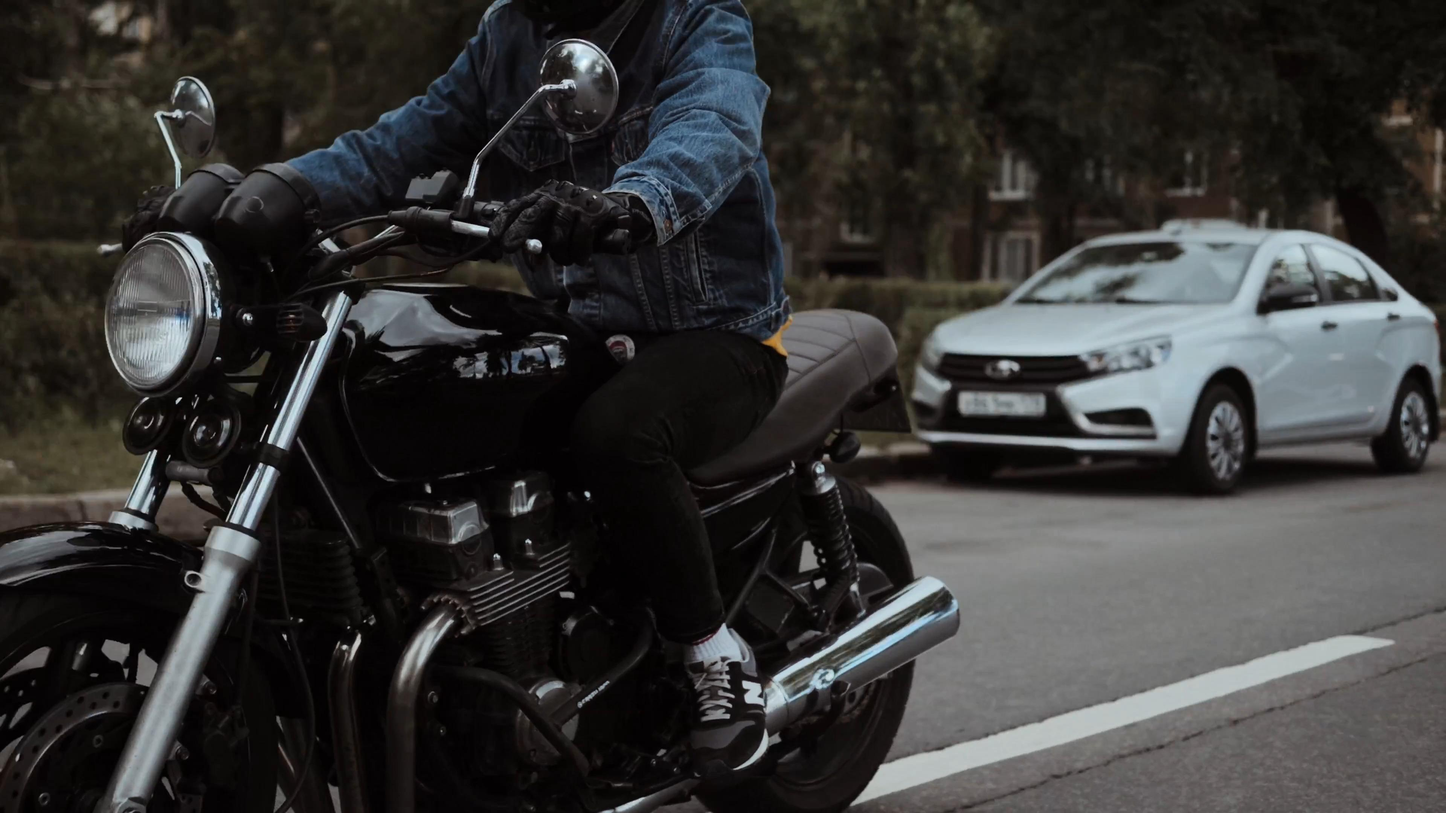driver: (0, 0, 963, 813)
